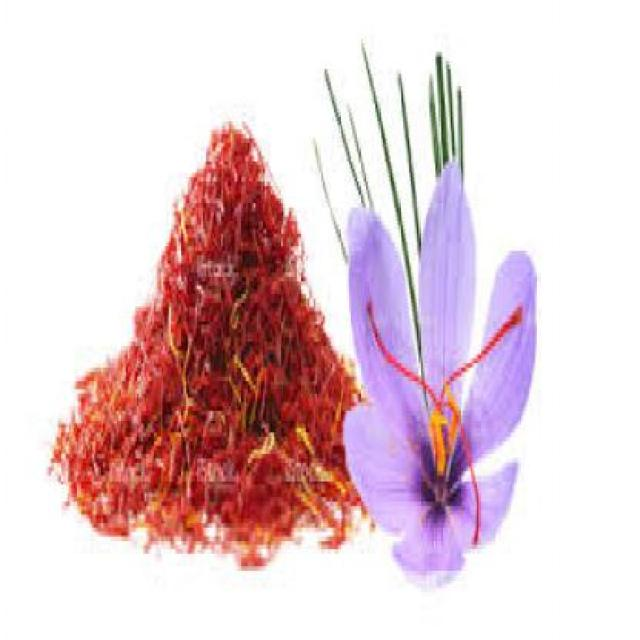saffron open: (346, 161, 536, 589)
